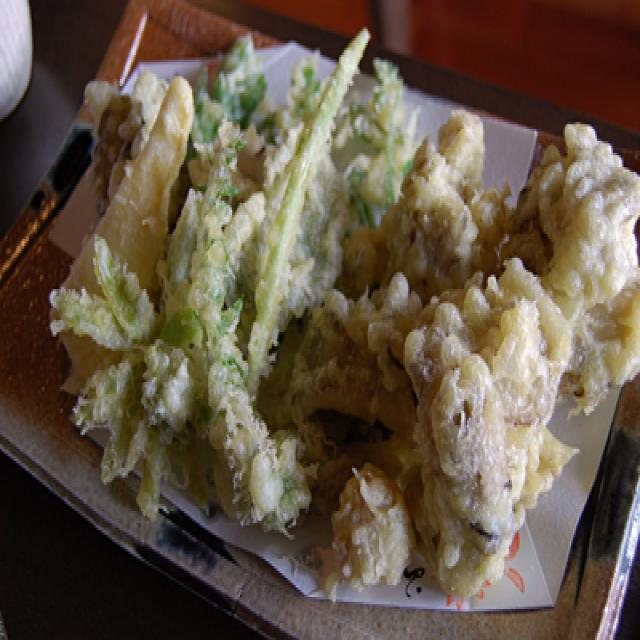蔬菜料理: (51, 38, 640, 609)
